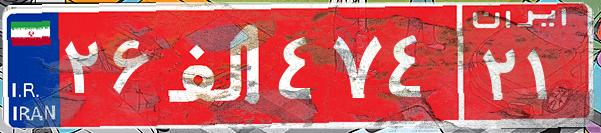1: (525, 38, 570, 115)
2: (57, 26, 110, 107), (475, 38, 525, 113)
4: (385, 28, 445, 110), (273, 28, 330, 110)
6: (110, 28, 158, 105)
7: (330, 28, 385, 110)
الف: (158, 15, 273, 115)
